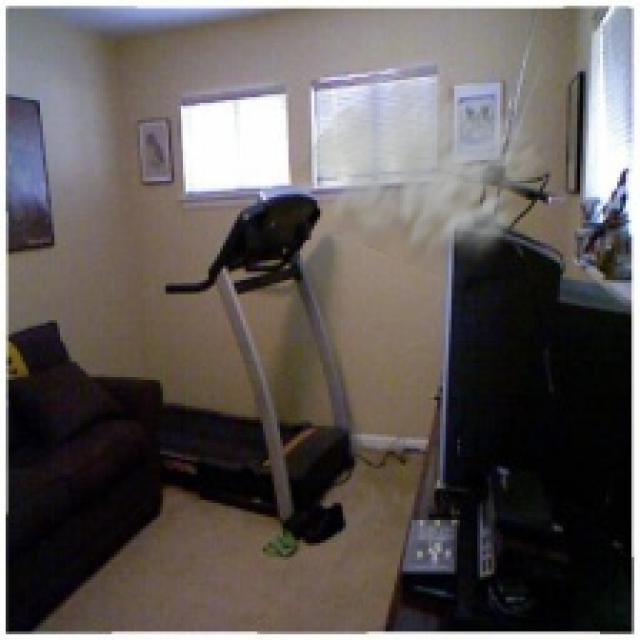smoke: (294, 66, 557, 291)
